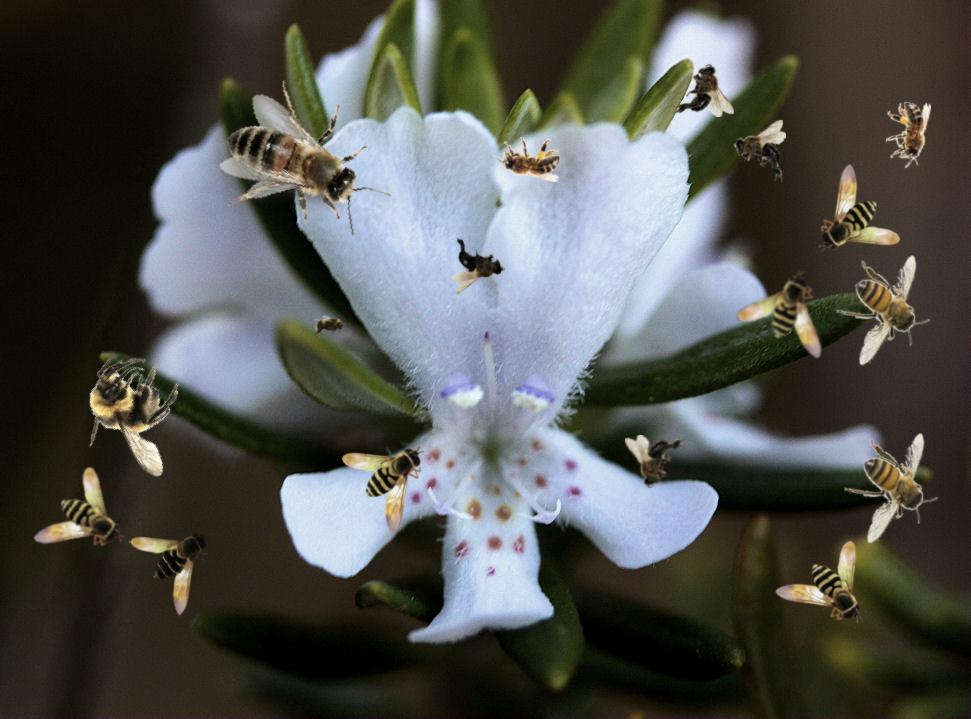Bee: (204, 63, 399, 261), (57, 338, 214, 495), (731, 266, 847, 384), (17, 462, 127, 570), (836, 255, 930, 366), (844, 433, 938, 544), (818, 164, 900, 252), (129, 529, 211, 617), (342, 446, 424, 534), (775, 541, 863, 623), (625, 435, 687, 488), (672, 64, 734, 117), (733, 120, 786, 182), (452, 232, 505, 294), (494, 137, 560, 182), (886, 102, 931, 168), (310, 315, 350, 337)
